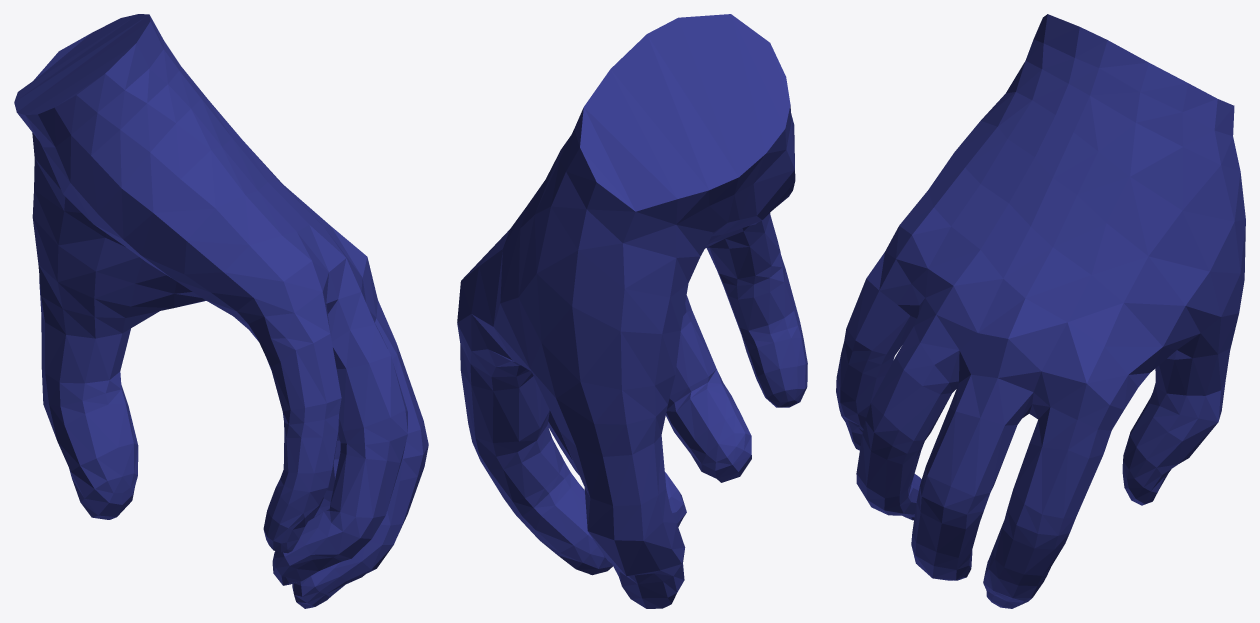
The picture shows the model from 3 angles, left to right: view 1: azimuth 30°, elevation 25°; view 2: azimuth 150°, elevation 25°; view 3: azimuth 270°, elevation 25°; orthographic projection. The views are drawn at different scales.
Bounding box in the file's own units: 0.0955 × 0.1668 × 0.1171.
